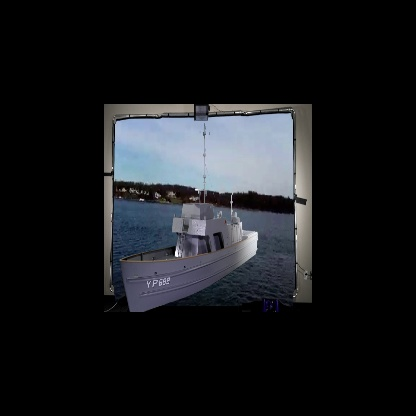YP689: (119, 120, 258, 311)
